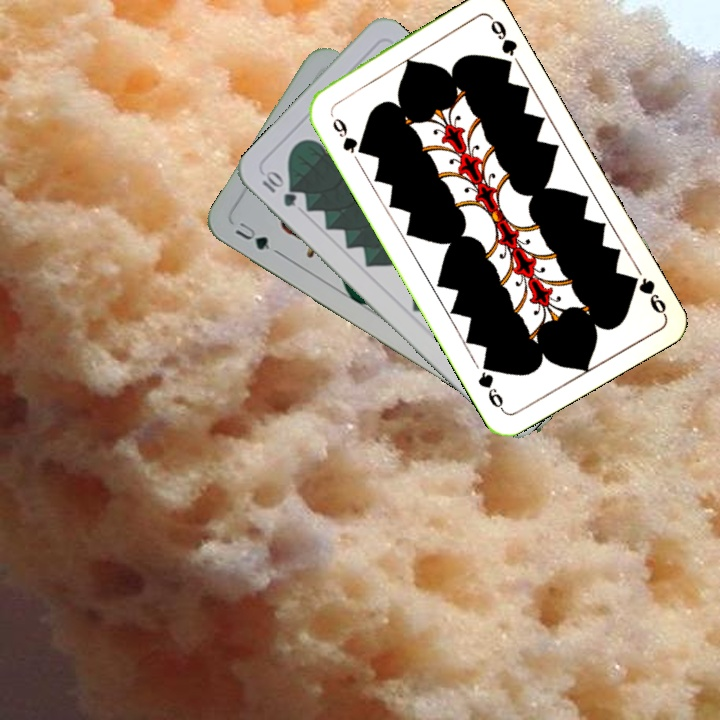G10: (258, 167, 300, 210)
G9: (623, 271, 669, 318), (328, 114, 367, 157)
GU: (231, 218, 282, 257)
